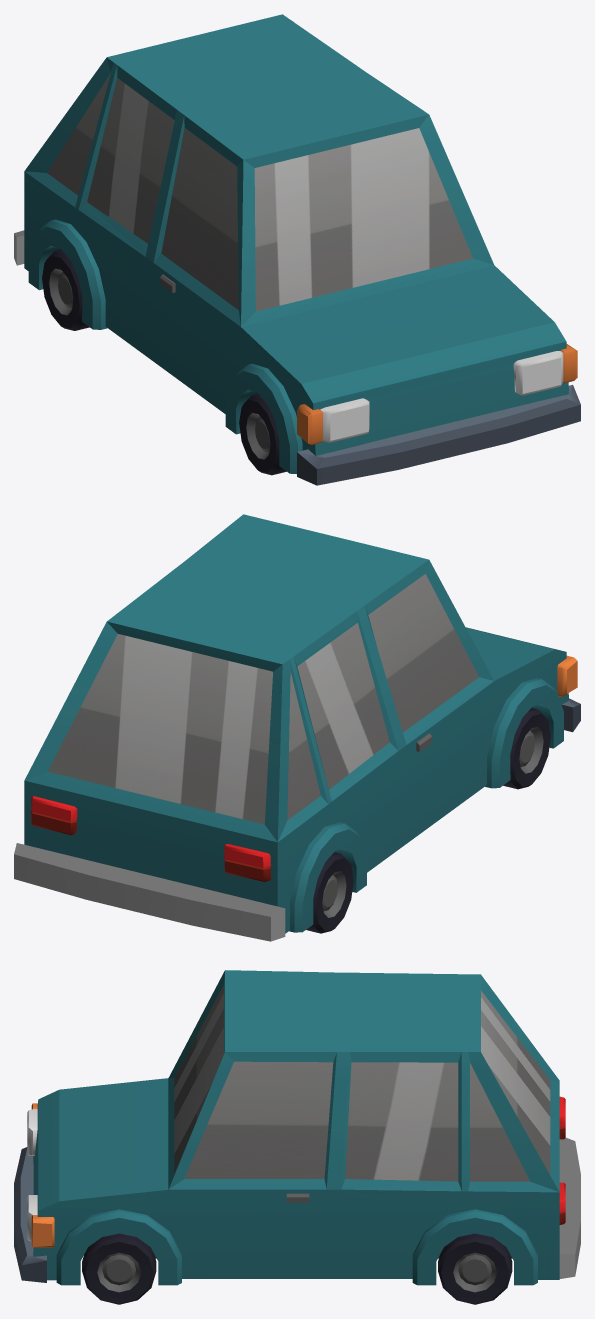
The model's file is Car_1_20.fbx.
3 views of the same model, one above another, from view 1: azimuth 30°, elevation 25°; view 2: azimuth 150°, elevation 25°; view 3: azimuth 270°, elevation 25° (orthographic). The views are drawn at different scales.
Visible parts, largest first — view 1: Car_1_20, Wheel_Br, Wheel_Fr; view 2: Car_1_20, Wheel_Fr, Wheel_Br; view 3: Car_1_20, Wheel_Bl, Wheel_Fl.
Part boxes in pixels (x1=…): Car_1_20: x1=14, y1=14, x2=580, y2=485; Wheel_Br: x1=42, y1=249, x2=89, y2=330; Wheel_Fr: x1=239, y1=394, x2=286, y2=475; Car_1_20: x1=14, y1=514, x2=580, y2=941; Wheel_Fr: x1=503, y1=708, x2=550, y2=789; Wheel_Br: x1=306, y1=852, x2=353, y2=933; Car_1_20: x1=14, y1=970, x2=580, y2=1285; Wheel_Bl: x1=438, y1=1233, x2=512, y2=1304; Wheel_Fl: x1=82, y1=1233, x2=156, y2=1304.
Bounding box in the file's own units: 105 × 94.33 × 206.
